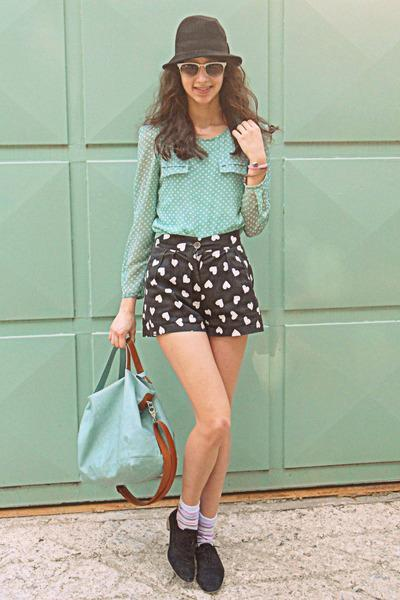bag: (71, 348, 170, 479)
hat: (170, 16, 242, 75)
shirt: (119, 124, 267, 299)
shoe: (166, 516, 224, 595)
shorts: (133, 229, 263, 344)
